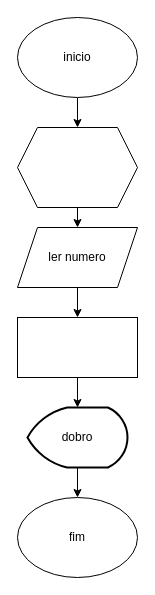
Image size: 155x595. Some labels were removed from this diagram. The centre of each missing label's shape, as x and y in pixels:
"dobro = numero * 2" goes at point (77, 347).
"numero = 0 dobro" goes at point (77, 167).
